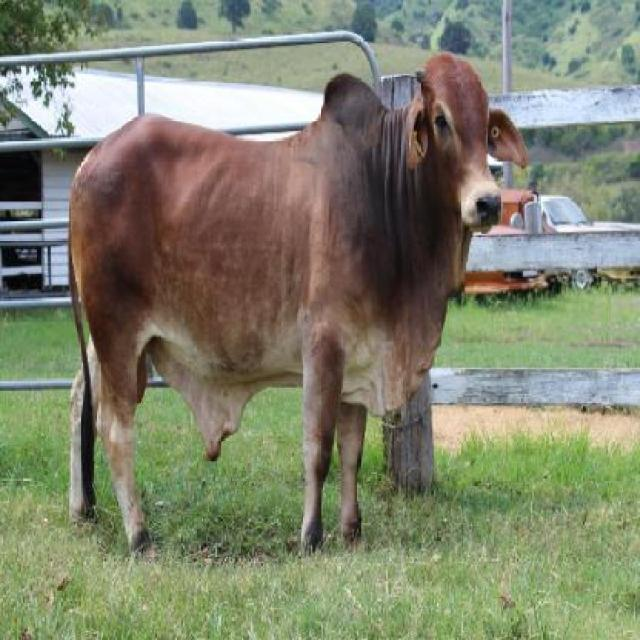Cow: (60, 52, 526, 560)
